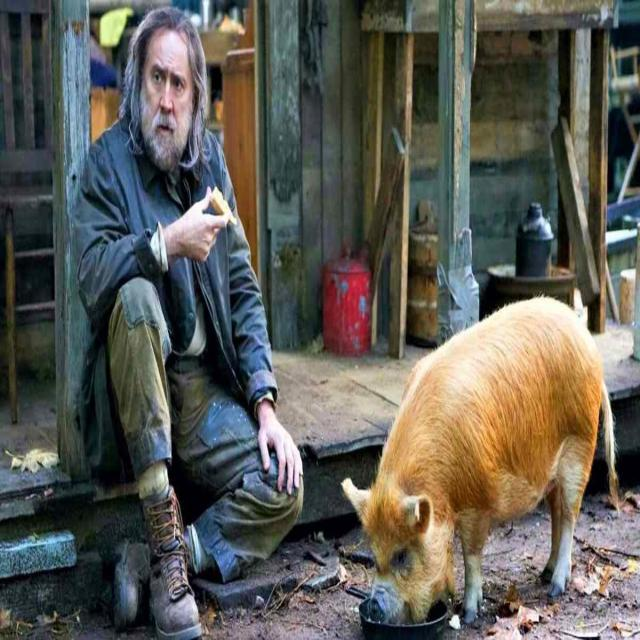pig: (341, 297, 619, 623)
